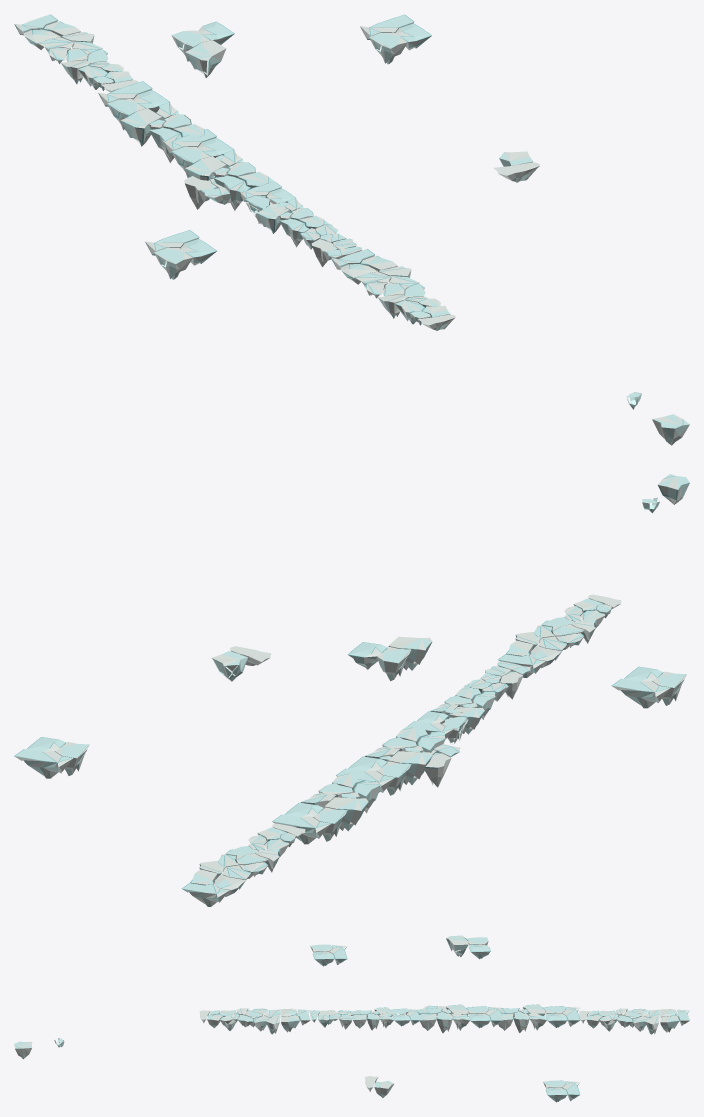
File: bridge.glb
3 views of the same model, one above another, from view 1: azimuth 30°, elevation 25°; view 2: azimuth 150°, elevation 25°; view 3: azimuth 270°, elevation 25° (orthographic). The views are drawn at different scales.
Parts seen in each view (by area): view 1: no part large enough to name; view 2: Cubo.034; view 3: no part large enough to name.
Part boxes in pixels (bbox=[...]): Cubo.034: bbox=[181, 883, 229, 906].
Size of the model in its own units: 240 by 75.64 by 513.
